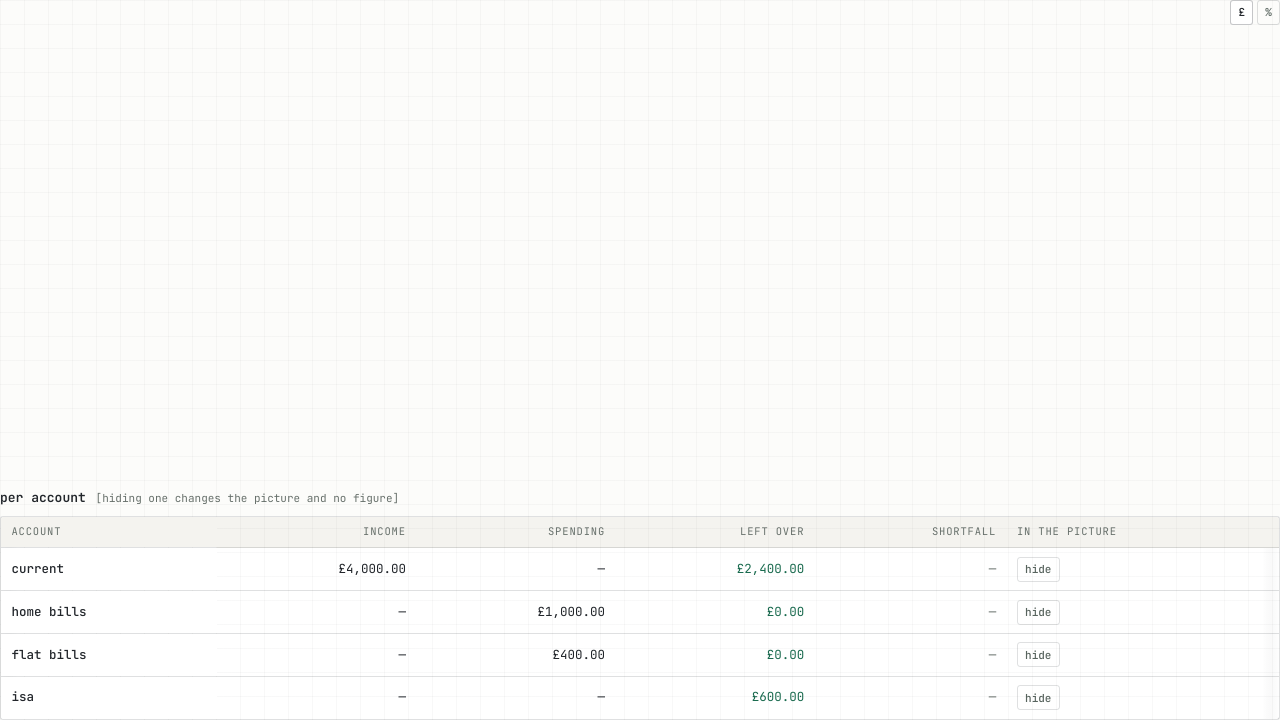
FlowPage › hiding an account changes the picture and provably not one figure
(page scrolled)
Click the button with aria-label "hide isa" at point(1038, 698), box [1017,685,1060,710]
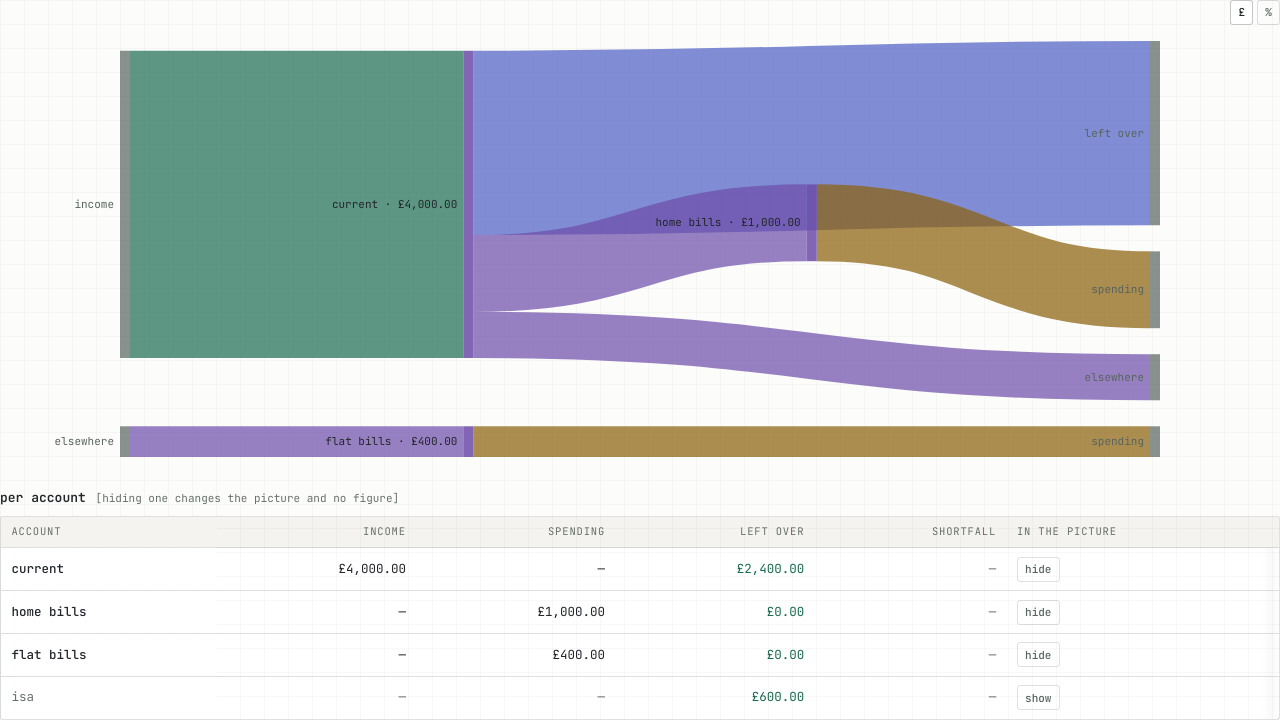
Click the button with aria-label "show isa" at point(1038, 698), box [1017,685,1060,710]
(page scrolled)
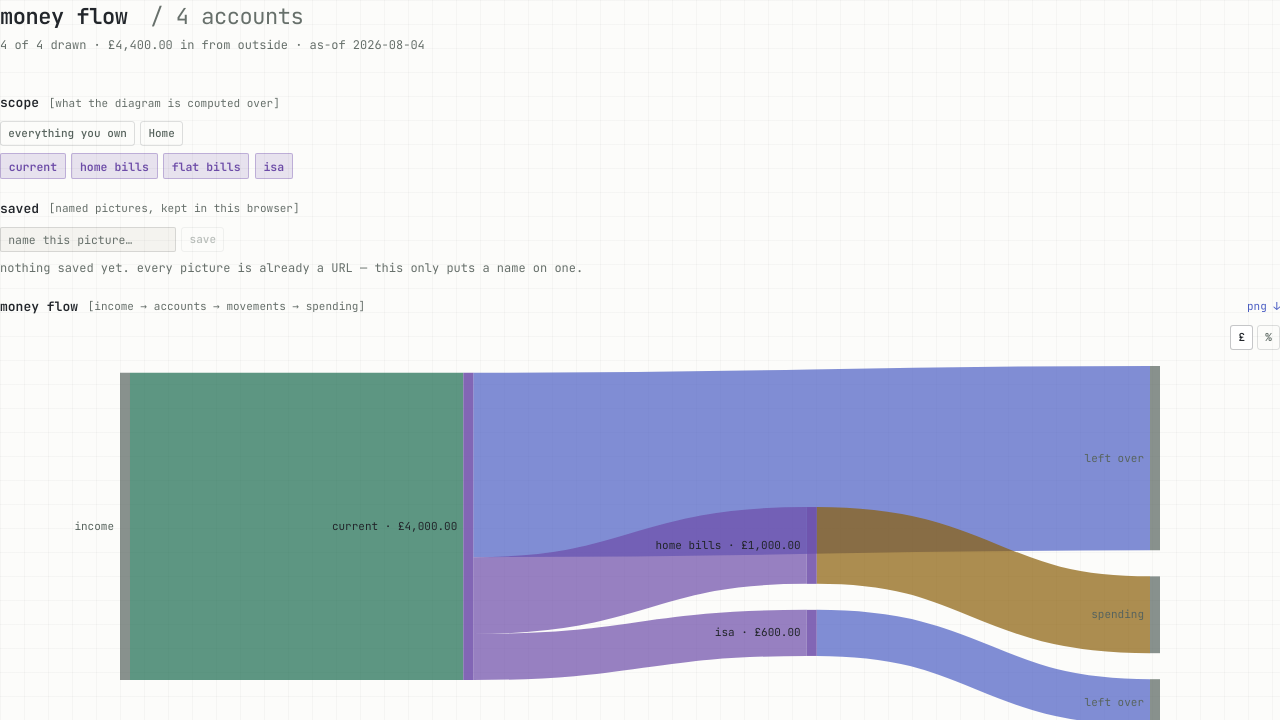
expect the text "4 of 4 drawn · £4,400.00 in from outside · as-of 2026-08-04" is shown: met, box [0,36,425,54]
